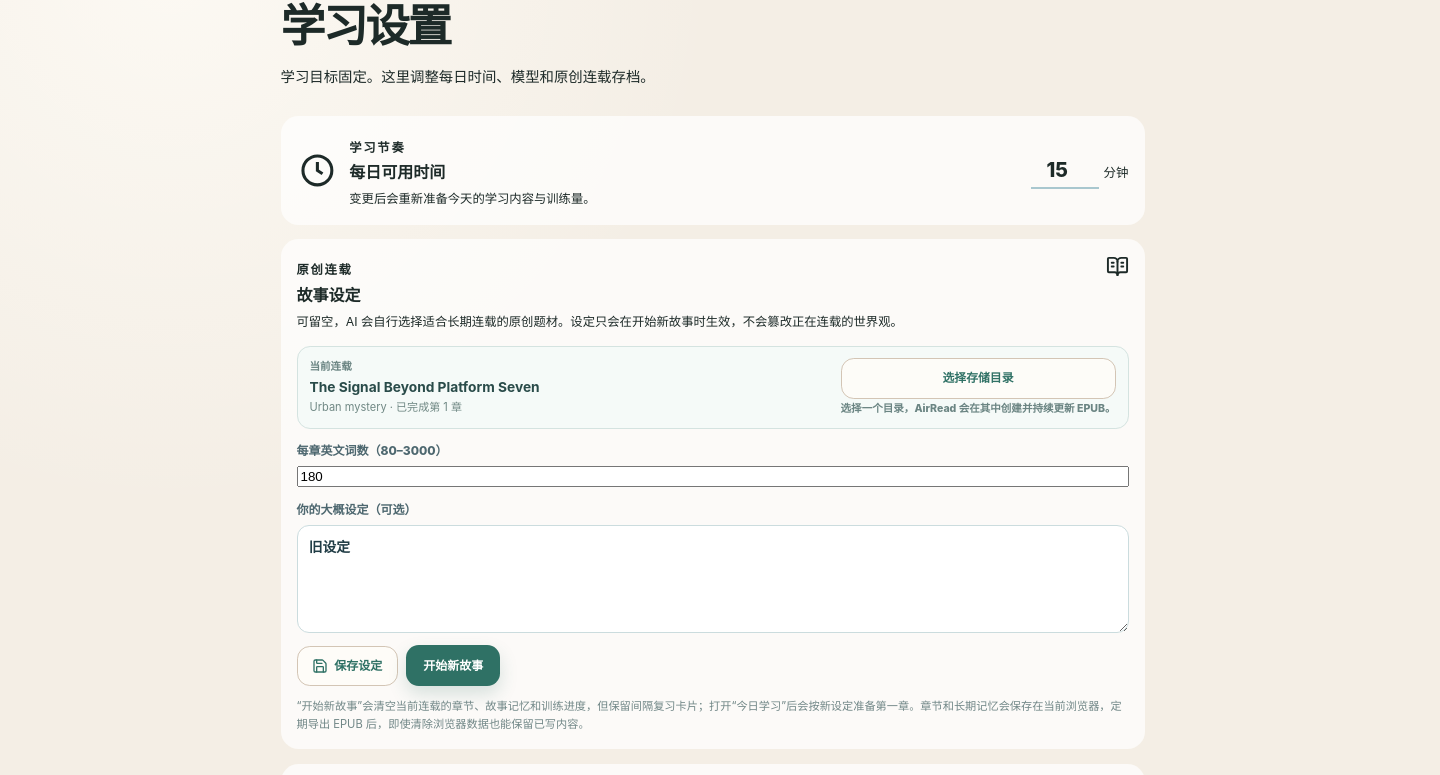
Test case: LearningSettingsPage serial story controls › shows an inline confirmation before starting a new story
Click the button "开始新故事". click: coordinates (453, 666)
box: left=406, top=646, right=500, bottom=686
(page scrolled)
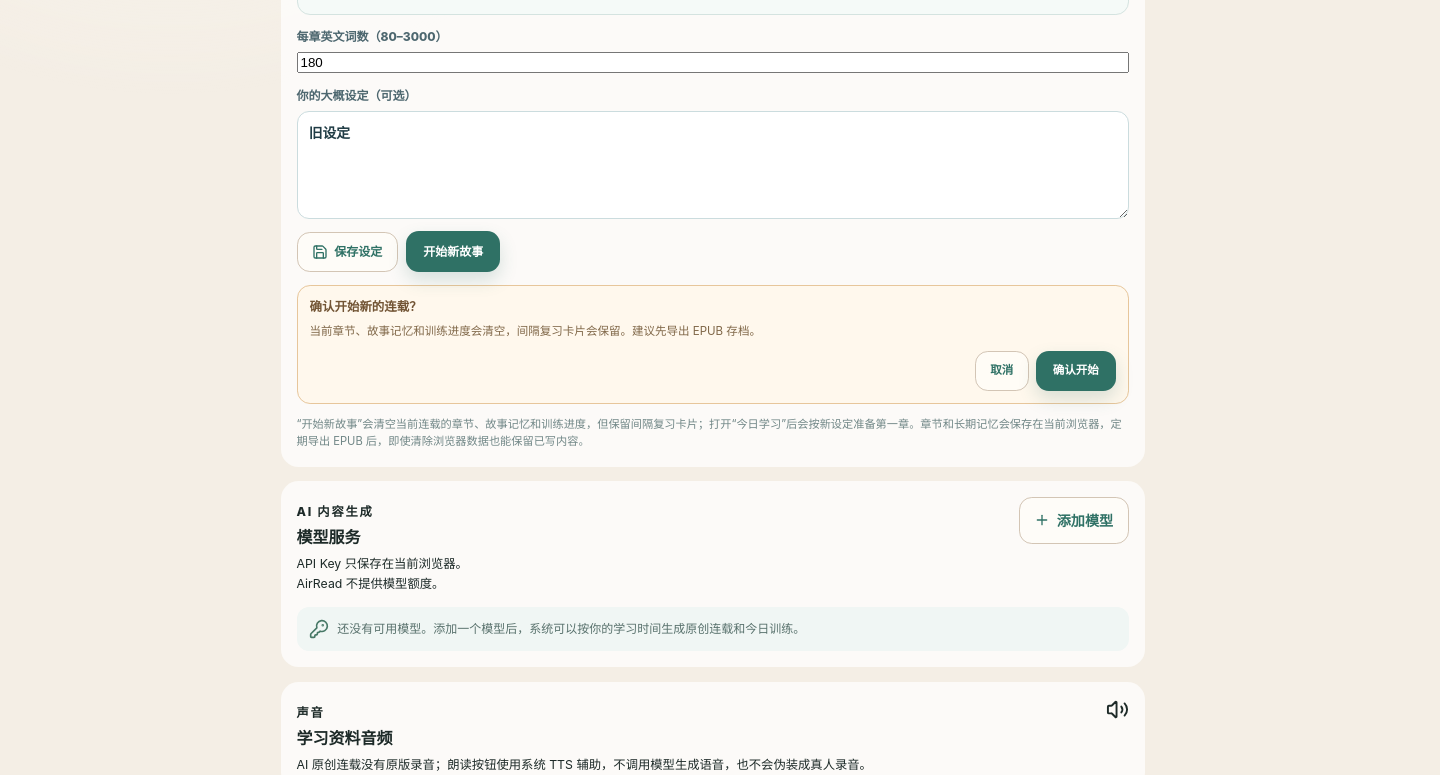
Now the message shows "当前章节、故事记忆和训练进度会清空", box left=310, top=324, right=761, bottom=338
Click the button "确认开始". click: coordinates (1076, 371)
box: left=1036, top=351, right=1116, bottom=391
(page scrolled)
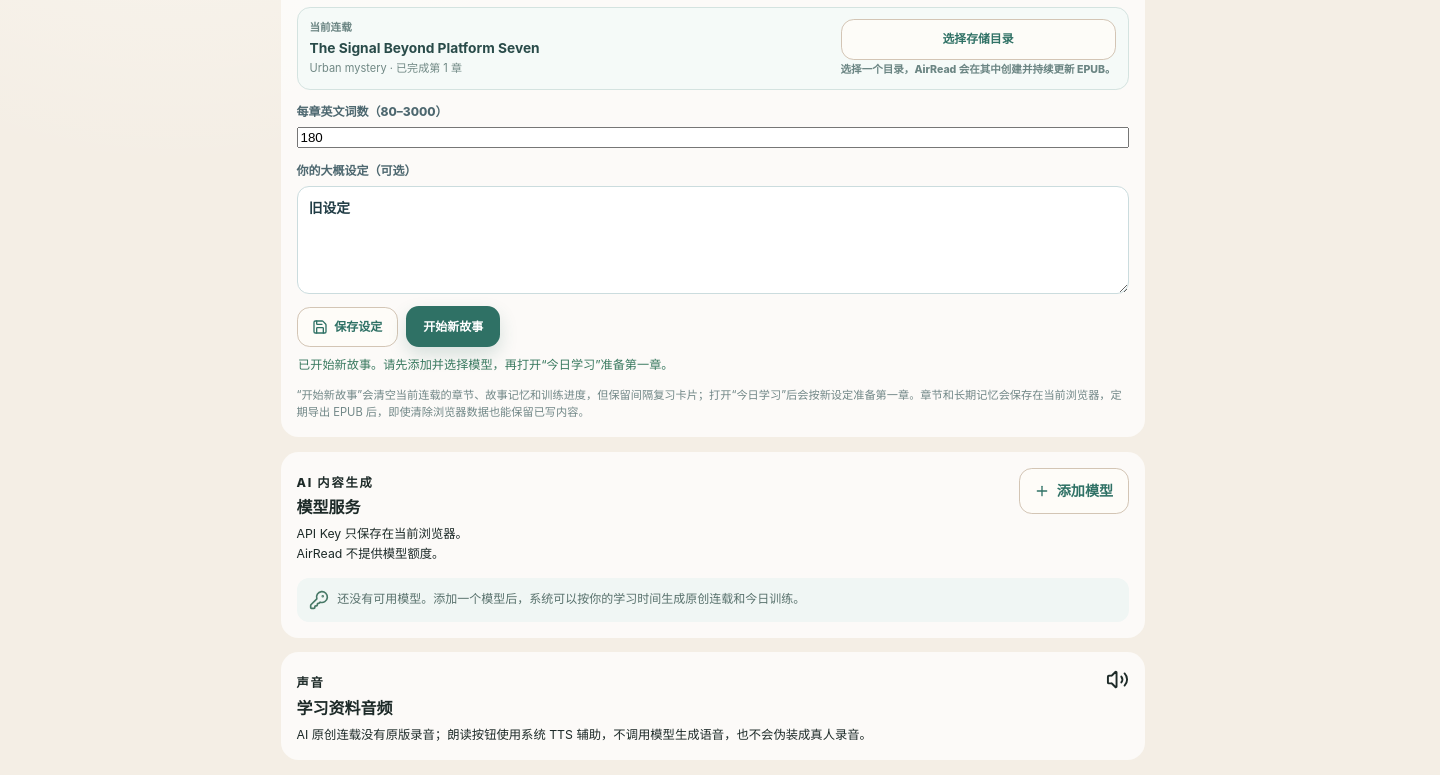
Now the message shows "已开始新故事", box left=298, top=357, right=674, bottom=372
